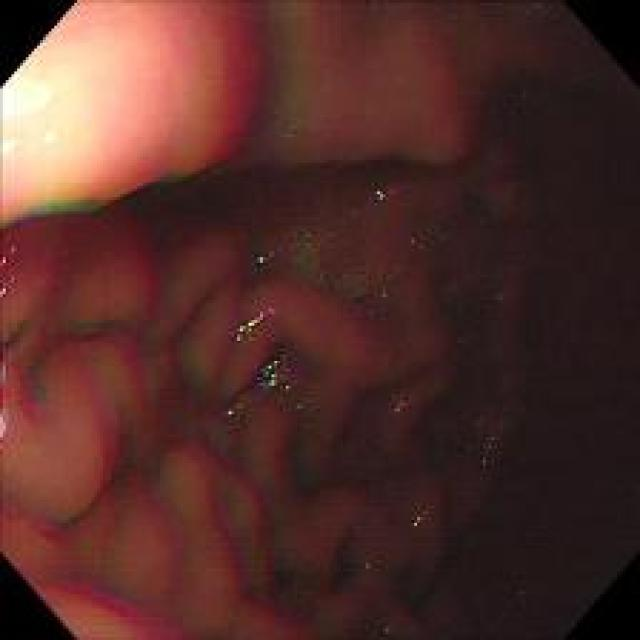blur: (1, 0, 638, 636)
bubbles: (460, 410, 515, 474), (352, 266, 395, 320), (511, 578, 534, 612), (279, 116, 301, 145), (429, 219, 449, 246), (426, 612, 454, 629), (379, 614, 401, 634), (405, 229, 422, 254), (514, 85, 535, 104), (450, 334, 469, 354), (470, 214, 489, 232), (492, 290, 511, 305)
color misalignment: (201, 454, 294, 602), (89, 412, 185, 539), (60, 566, 185, 636), (162, 315, 228, 435), (89, 318, 160, 415), (8, 328, 60, 424), (9, 502, 78, 555), (281, 232, 340, 289), (252, 346, 306, 408), (344, 268, 398, 329), (1, 198, 105, 228), (235, 304, 280, 340), (0, 226, 20, 299), (1, 348, 16, 435), (384, 395, 420, 422), (146, 168, 188, 190), (220, 399, 254, 422), (406, 505, 434, 530), (356, 551, 380, 578), (370, 182, 399, 204), (250, 242, 276, 266), (0, 438, 15, 464)
contrast: (338, 1, 638, 639)
specularity: (1, 132, 22, 162), (38, 120, 59, 146)
